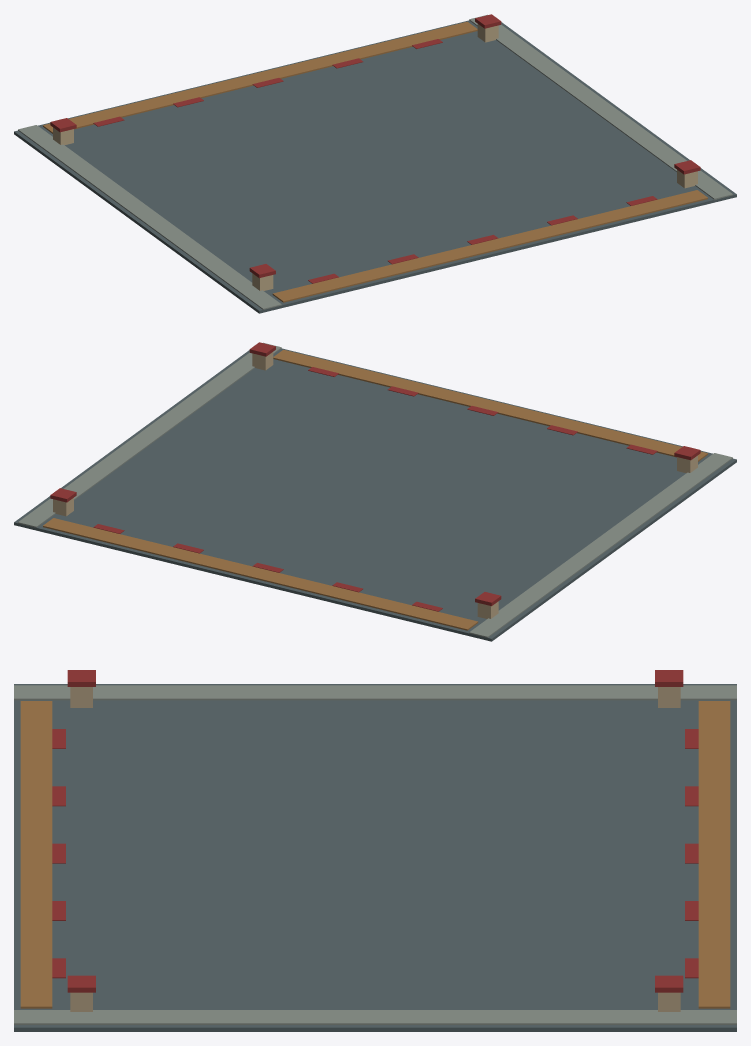
The model's file is PirateCove_HubPlaza_Standard.glb.
3 views of the same model, one above another, from view 1: azimuth 30°, elevation 25°; view 2: azimuth 150°, elevation 25°; view 3: azimuth 270°, elevation 25° (orthographic). The views are drawn at different scales.
Parts seen in each view (by area): view 1: PirateCove_HubPlaza_Standard; view 2: PirateCove_HubPlaza_Standard; view 3: PirateCove_HubPlaza_Standard.
Part boxes in pixels (box(x1,y1,x2,y2)): PirateCove_HubPlaza_Standard: box(14, 14, 736, 313); PirateCove_HubPlaza_Standard: box(14, 342, 736, 641); PirateCove_HubPlaza_Standard: box(14, 670, 736, 1031).
Bounding box in the file's own units: 36 × 1.52 × 32.
